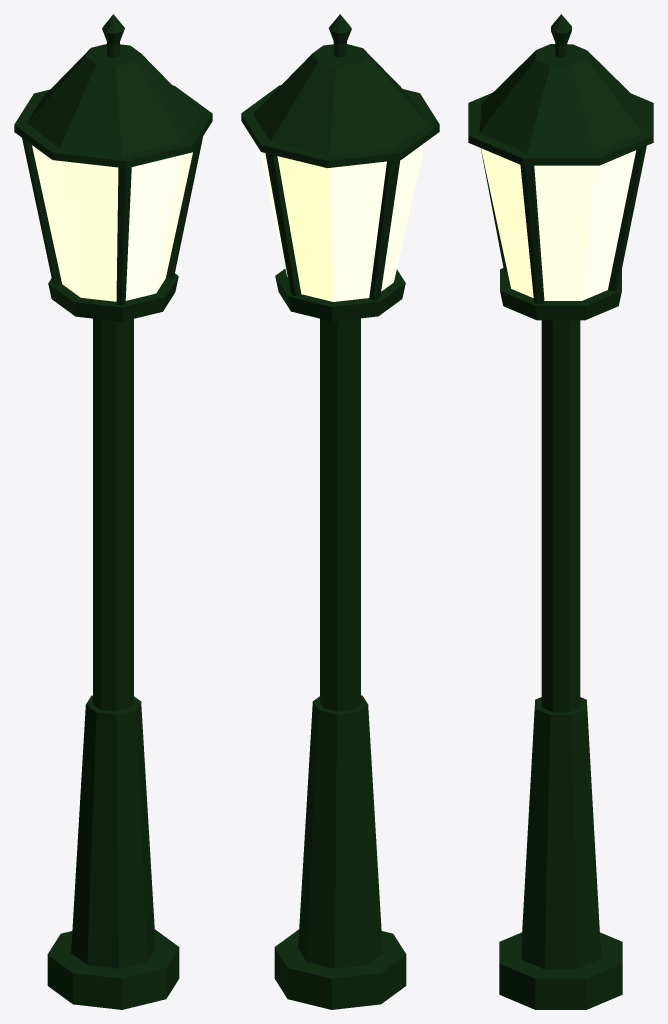
The model's file is lamp1.fbx.
3 renders of one model, left to right at view 1: azimuth 30°, elevation 25°; view 2: azimuth 150°, elevation 25°; view 3: azimuth 270°, elevation 25°, orthographic.
Parts seen in each view (by area): view 1: Cylinder.002; view 2: Cylinder.002; view 3: Cylinder.002.
Part boxes in pixels (x1=…): Cylinder.002: x1=14, y1=14, x2=212, y2=1009; Cylinder.002: x1=241, y1=14, x2=439, y2=1009; Cylinder.002: x1=468, y1=14, x2=653, y2=1009.
Bounding box in the file's own units: 44.42 × 256 × 44.42.
